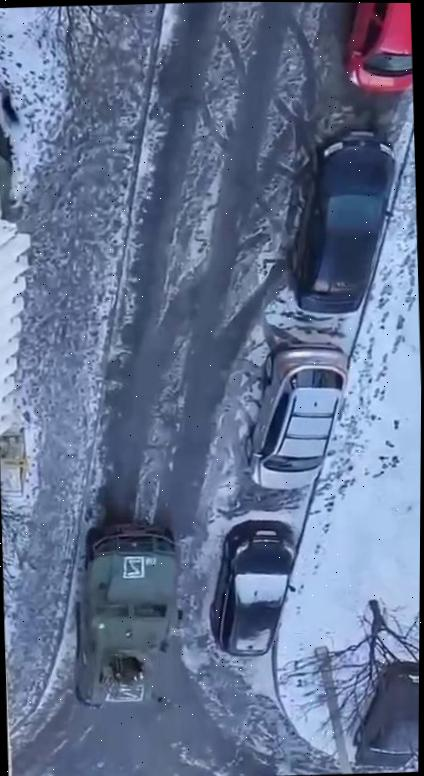armored_car: (65, 519, 187, 712)
car: (286, 125, 403, 315), (239, 341, 352, 492), (204, 521, 297, 659), (348, 664, 419, 771), (344, 3, 413, 92)
